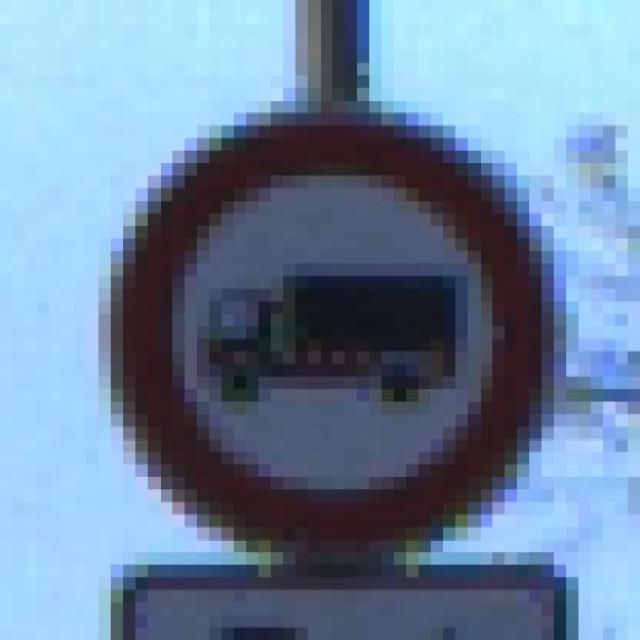Truck traffic is prohibited: (74, 101, 591, 590)
